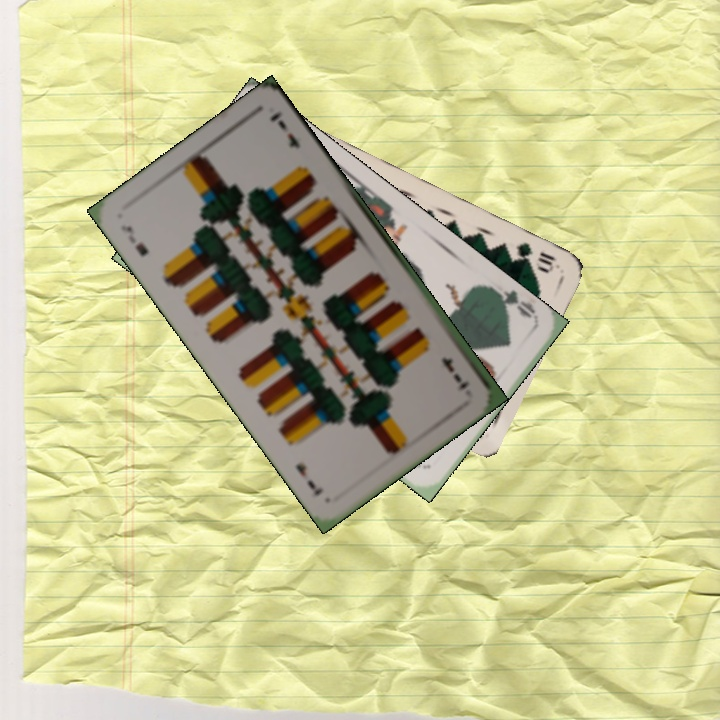E7: (437, 353, 473, 392), (117, 220, 151, 259)
G10: (512, 238, 562, 275)
GO: (487, 283, 539, 321)
